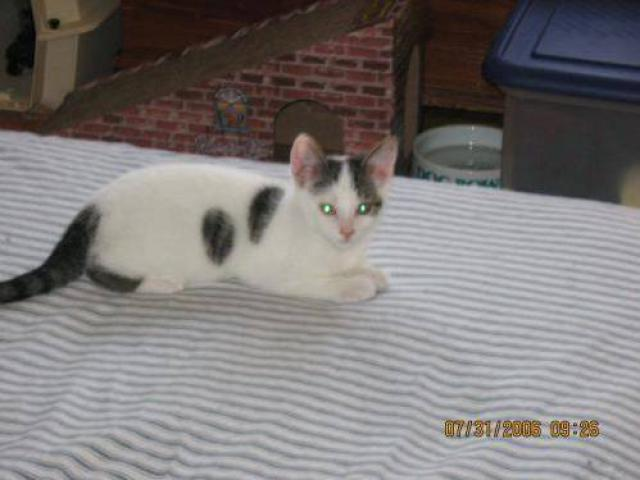cat: (1, 132, 404, 305)
